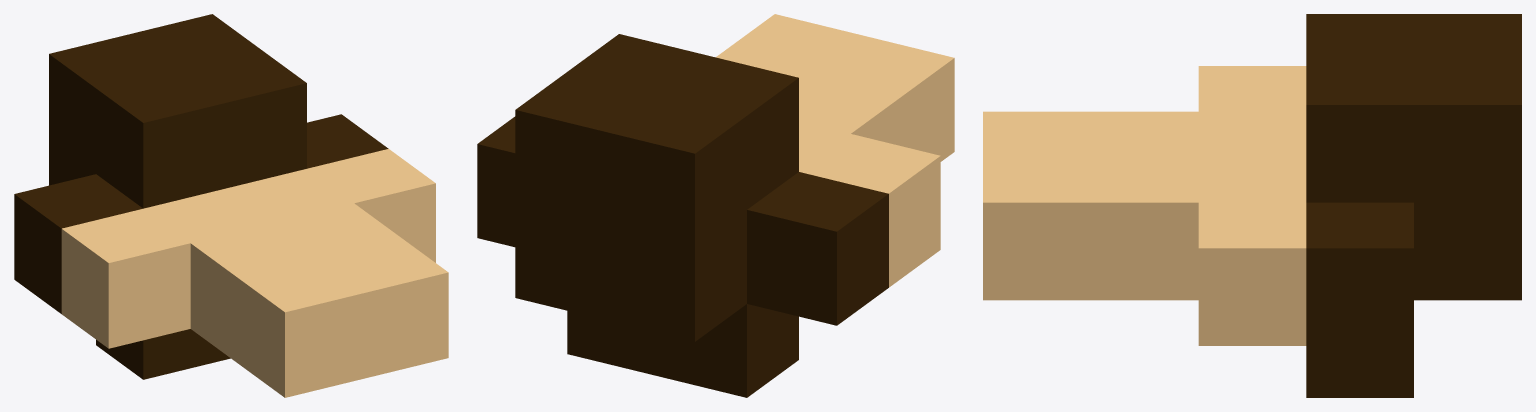
File: scummBarPirate13_head.obj
The picture shows the model from 3 angles, left to right: view 1: azimuth 30°, elevation 25°; view 2: azimuth 150°, elevation 25°; view 3: azimuth 270°, elevation 25°; orthographic projection. The views are drawn at different scales.
Size of the model in its own units: 4 by 3 by 5.
1 material, 1 textured.
